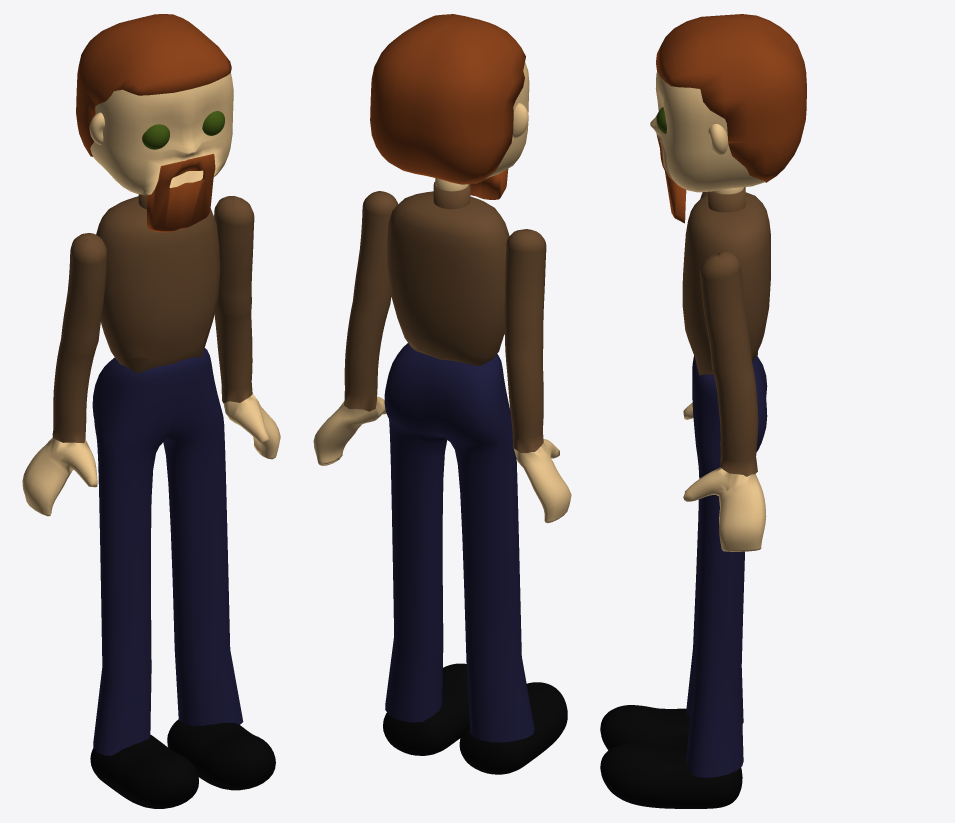
File: MaleNPCseperated.fbx
The picture shows the model from 3 angles, left to right: view 1: azimuth 30°, elevation 25°; view 2: azimuth 150°, elevation 25°; view 3: azimuth 270°, elevation 25°; orthographic projection. The views are drawn at different scales.
Parts seen in each view (by area): view 1: legs, torso, Sphere.026, armL, Sphere.002, armR, feetR, feetL; view 2: legs, Sphere.002, torso, armL, armR, feetL, feetR, Sphere.026; view 3: legs, Sphere.002, armR, torso, Sphere.026, feetR, feetL.
Part boxes in pixels (x1,y1,x2,y2): legs: [92, 348, 243, 755]; torso: [96, 194, 220, 372]; Sphere.026: [89, 73, 233, 232]; armL: [22, 233, 107, 516]; Sphere.002: [76, 14, 231, 156]; armR: [214, 196, 280, 459]; feetR: [167, 719, 275, 790]; feetL: [90, 734, 198, 808]; legs: [384, 343, 534, 742]; Sphere.002: [370, 14, 525, 184]; torso: [387, 181, 509, 365]; armL: [504, 229, 571, 523]; armR: [313, 191, 398, 465]; feetL: [459, 682, 567, 774]; feetR: [383, 663, 469, 755]; Sphere.026: [435, 62, 529, 199]; legs: [686, 355, 767, 777]; Sphere.002: [656, 14, 806, 182]; armR: [683, 251, 766, 551]; torso: [682, 187, 770, 375]; Sphere.026: [650, 72, 765, 223]; feetR: [600, 743, 742, 808]; feetL: [600, 705, 690, 750].
Bounding box in the file's own units: 315 × 902 × 366.
